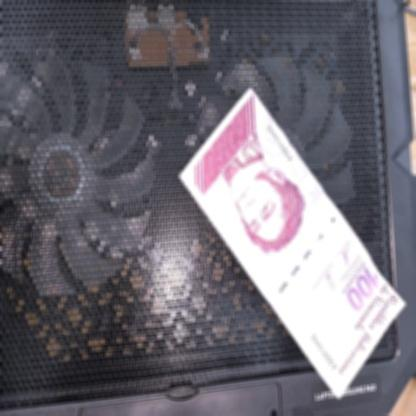one_hundred-front-vef: (178, 87, 406, 399)
